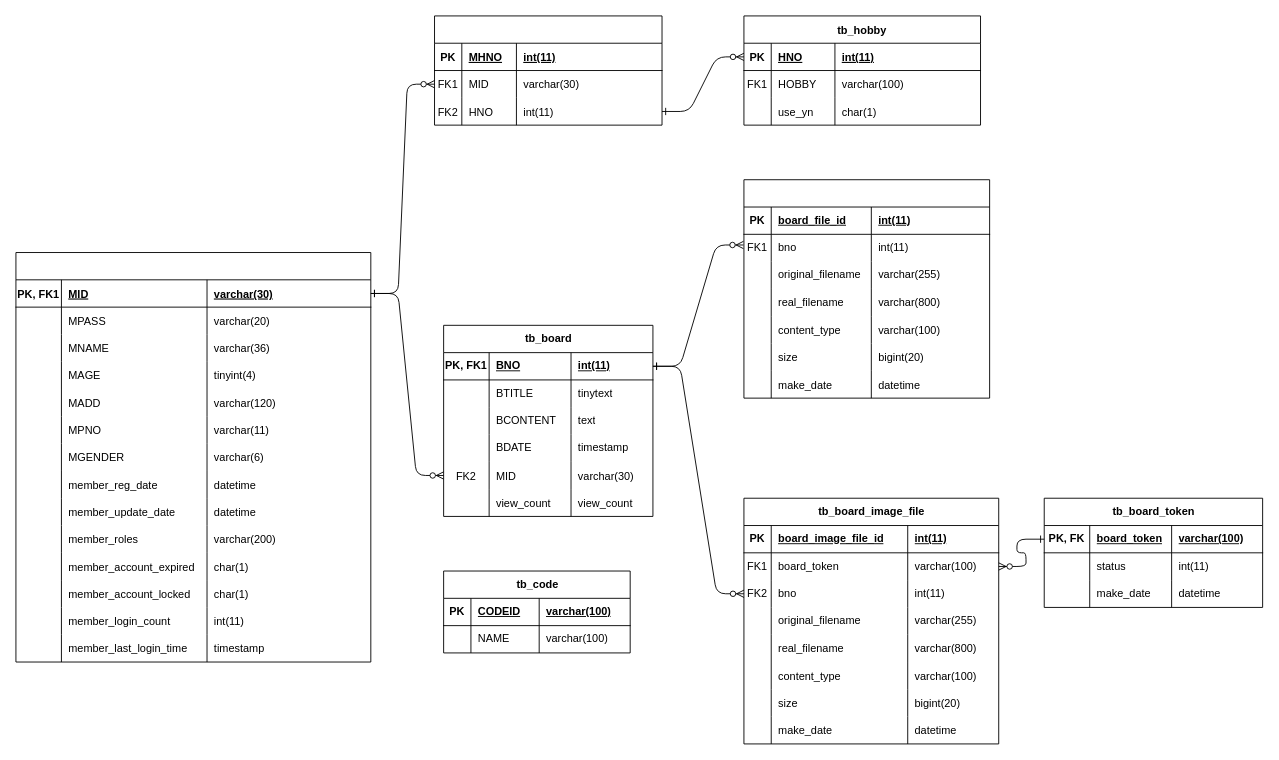
This 1279x760 diagram has some shape labels left out. Each missing label, with the box of its shape:
tb_board_file: (743, 179, 990, 398)
tb_member: (15, 252, 371, 662)
tb_member_hobby: (434, 15, 662, 125)
